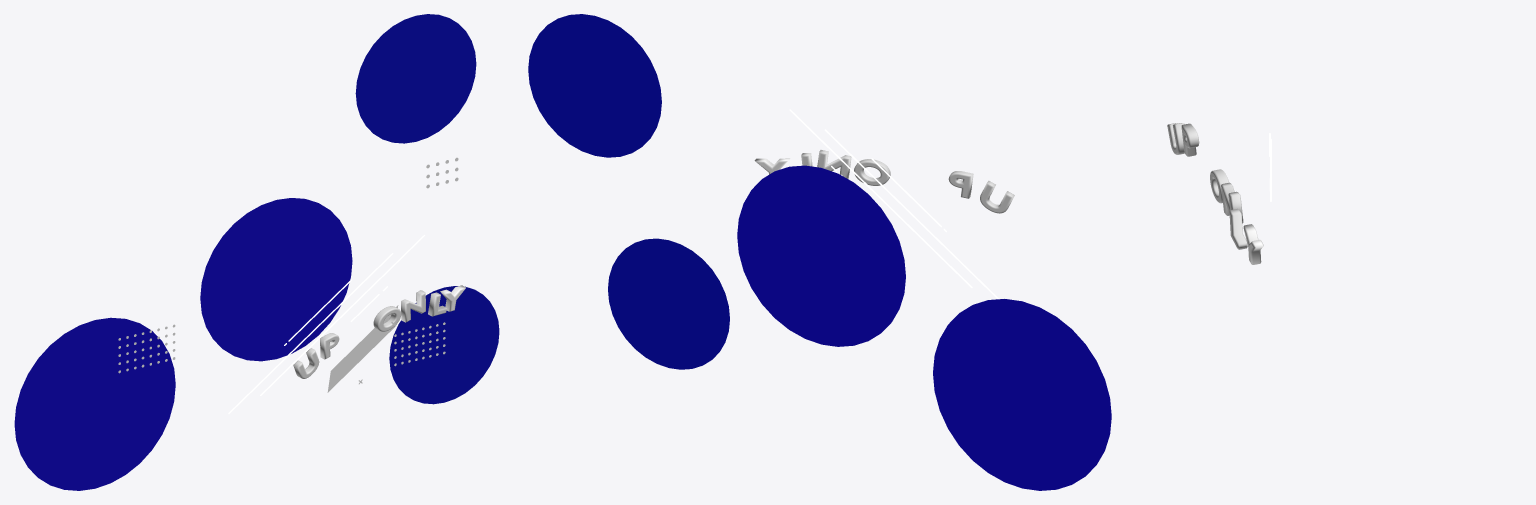
File: section_12.glb
The picture shows the model from 3 angles, left to right: view 1: azimuth 30°, elevation 25°; view 2: azimuth 150°, elevation 25°; view 3: azimuth 270°, elevation 25°; orthographic projection. The views are drawn at different scales.
Visible parts, largest first — view 1: Gradation_LeftBottom, grad.003, Gradation_RightTop, Gradation_RightBottom, Slash.001; view 2: Gradation_LeftBottom, grad.003, Gradation_RightTop, Gradation_RightBottom; view 3: LogoPart_6, LogoPart_5, LogoPart_4, LogoPart_2, LogoPart_1.
Boxes of the visible parts, x1,y1,x2,y2 form: Gradation_LeftBottom: (14, 317, 175, 490); grad.003: (200, 198, 352, 361); Gradation_RightTop: (355, 14, 476, 143); Gradation_RightBottom: (389, 286, 499, 404); Slash.001: (327, 305, 398, 392); Gradation_LeftBottom: (933, 299, 1111, 490); grad.003: (737, 165, 905, 346); Gradation_RightTop: (528, 14, 661, 157); Gradation_RightBottom: (608, 238, 729, 369); LogoPart_6: (1243, 224, 1263, 264); LogoPart_5: (1229, 208, 1247, 249); LogoPart_4: (1221, 182, 1243, 223); LogoPart_2: (1181, 123, 1199, 156); LogoPart_1: (1167, 123, 1184, 154).
Size of the model in its own units: 19.75 by 13.88 by 9.7.
